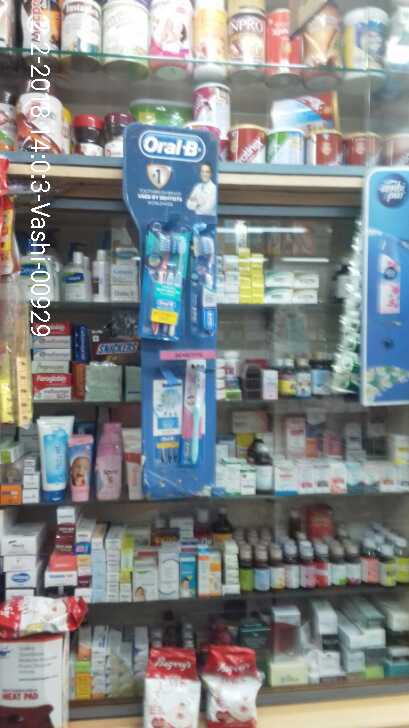oralb: (140, 229, 189, 338), (193, 224, 222, 339)
